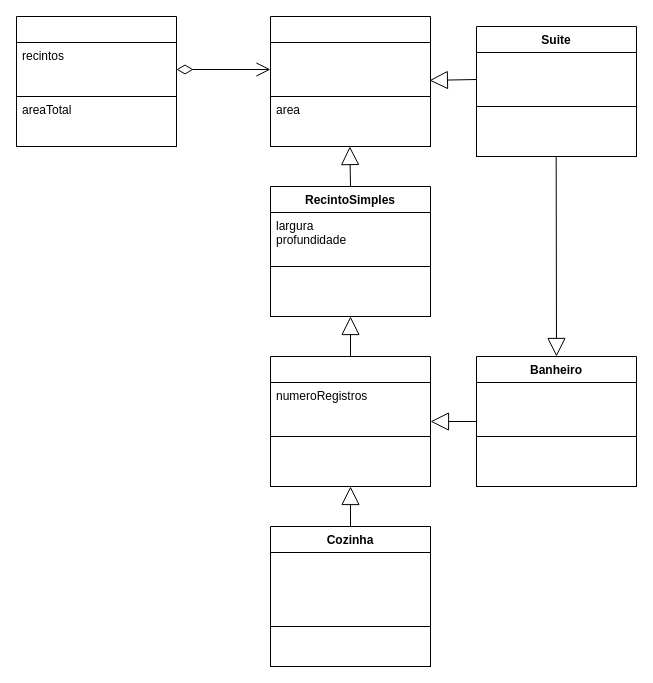
The diagram is 653 pixels wide and 683 high, and some of its shapes have lost their labels. Here are the shapes that lost their labels. From the top down, the box of each, then its label:
(16, 16, 176, 146): Unidade
(270, 42, 430, 96): nome
(270, 16, 430, 146): Recinto
(476, 52, 636, 106): quarto banheiro
(270, 356, 430, 486): RecintoHidráulico
